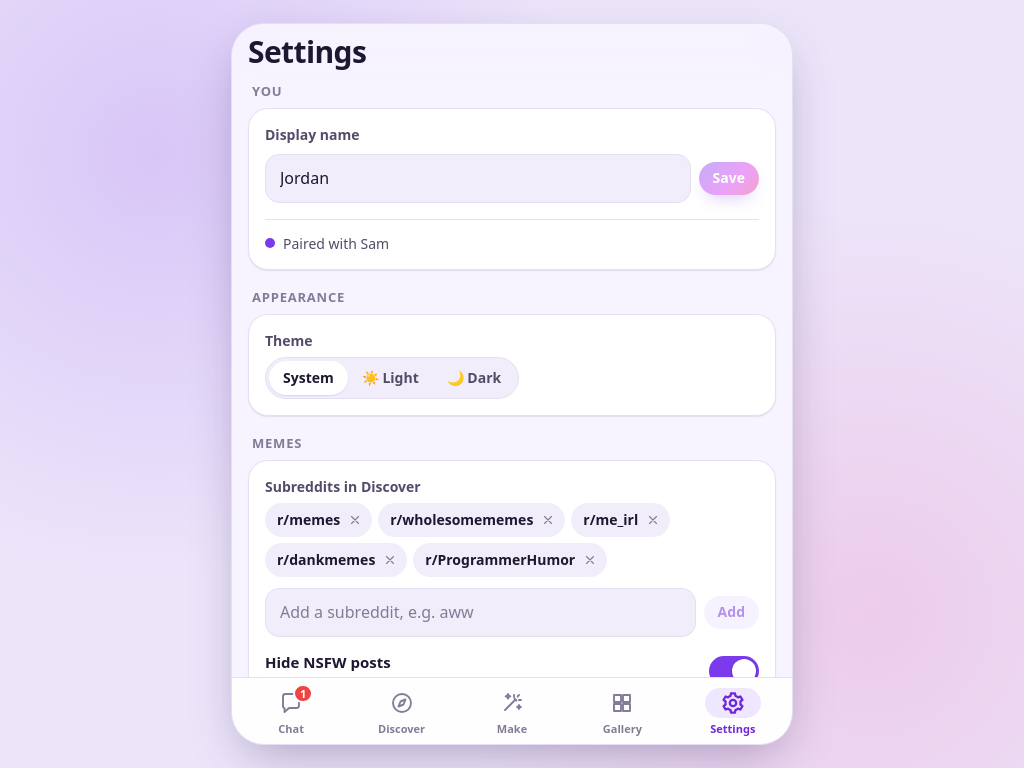
Scenario: Settings → Backup (mock services) › imports a legacy plain backup without asking for a password
The width and height of the screenshot is (1024, 768).
Later steps or results of the test are not shown.
Step 1. Click the button "Settings" → click(733, 711), box [678, 684, 788, 738]
(page scrolled)
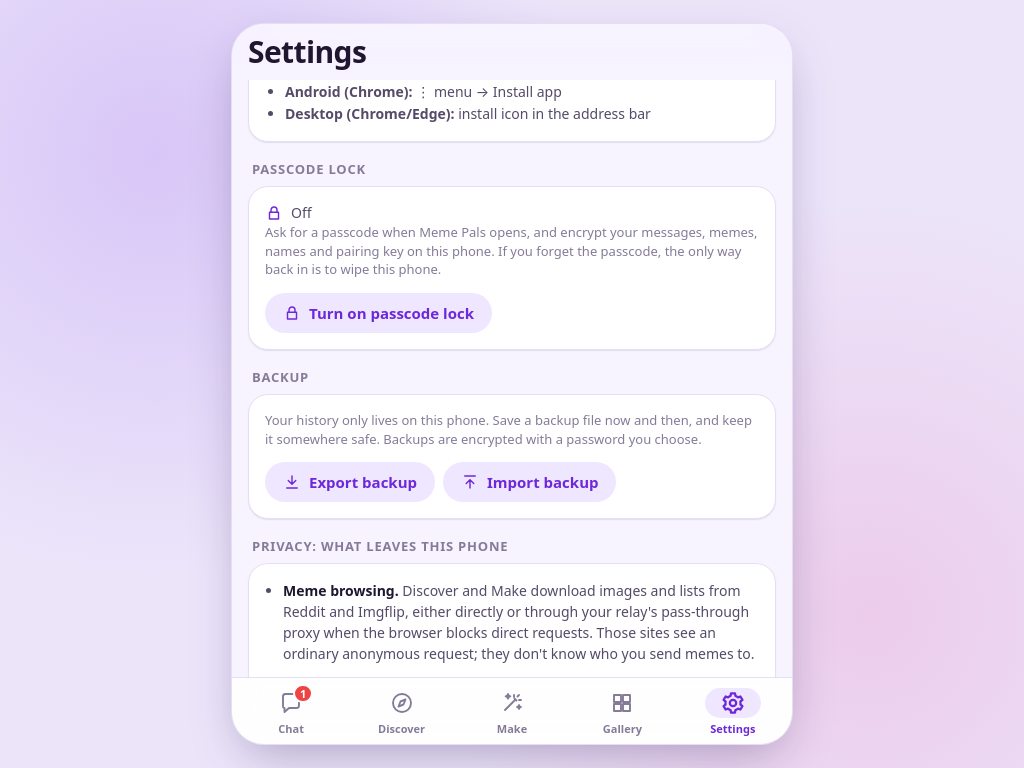
Expected: the heading "Backup" is shown, [252, 368, 309, 386]
